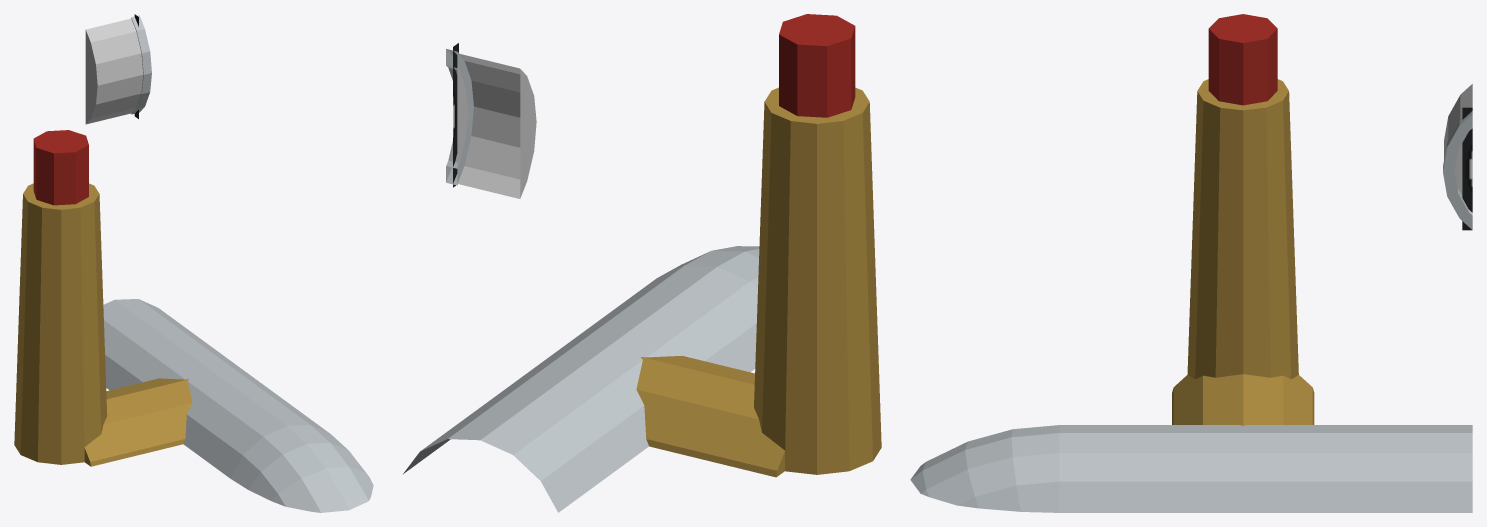
The model's file is cell_14.obj.
The picture shows the model from 3 angles, left to right: view 1: azimuth 30°, elevation 25°; view 2: azimuth 150°, elevation 25°; view 3: azimuth 270°, elevation 25°; orthographic projection. The views are drawn at different scales.
Bounding box in the file's own units: 0.2975 × 0.369 × 0.4901.
